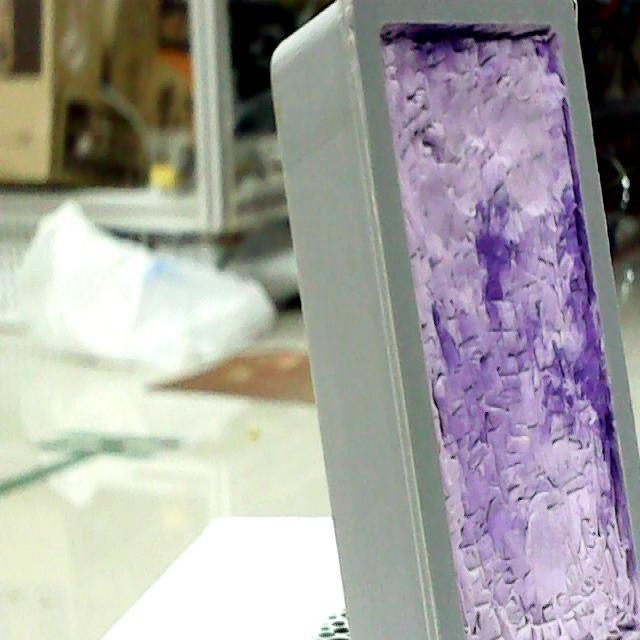block: (266, 1, 640, 640)
